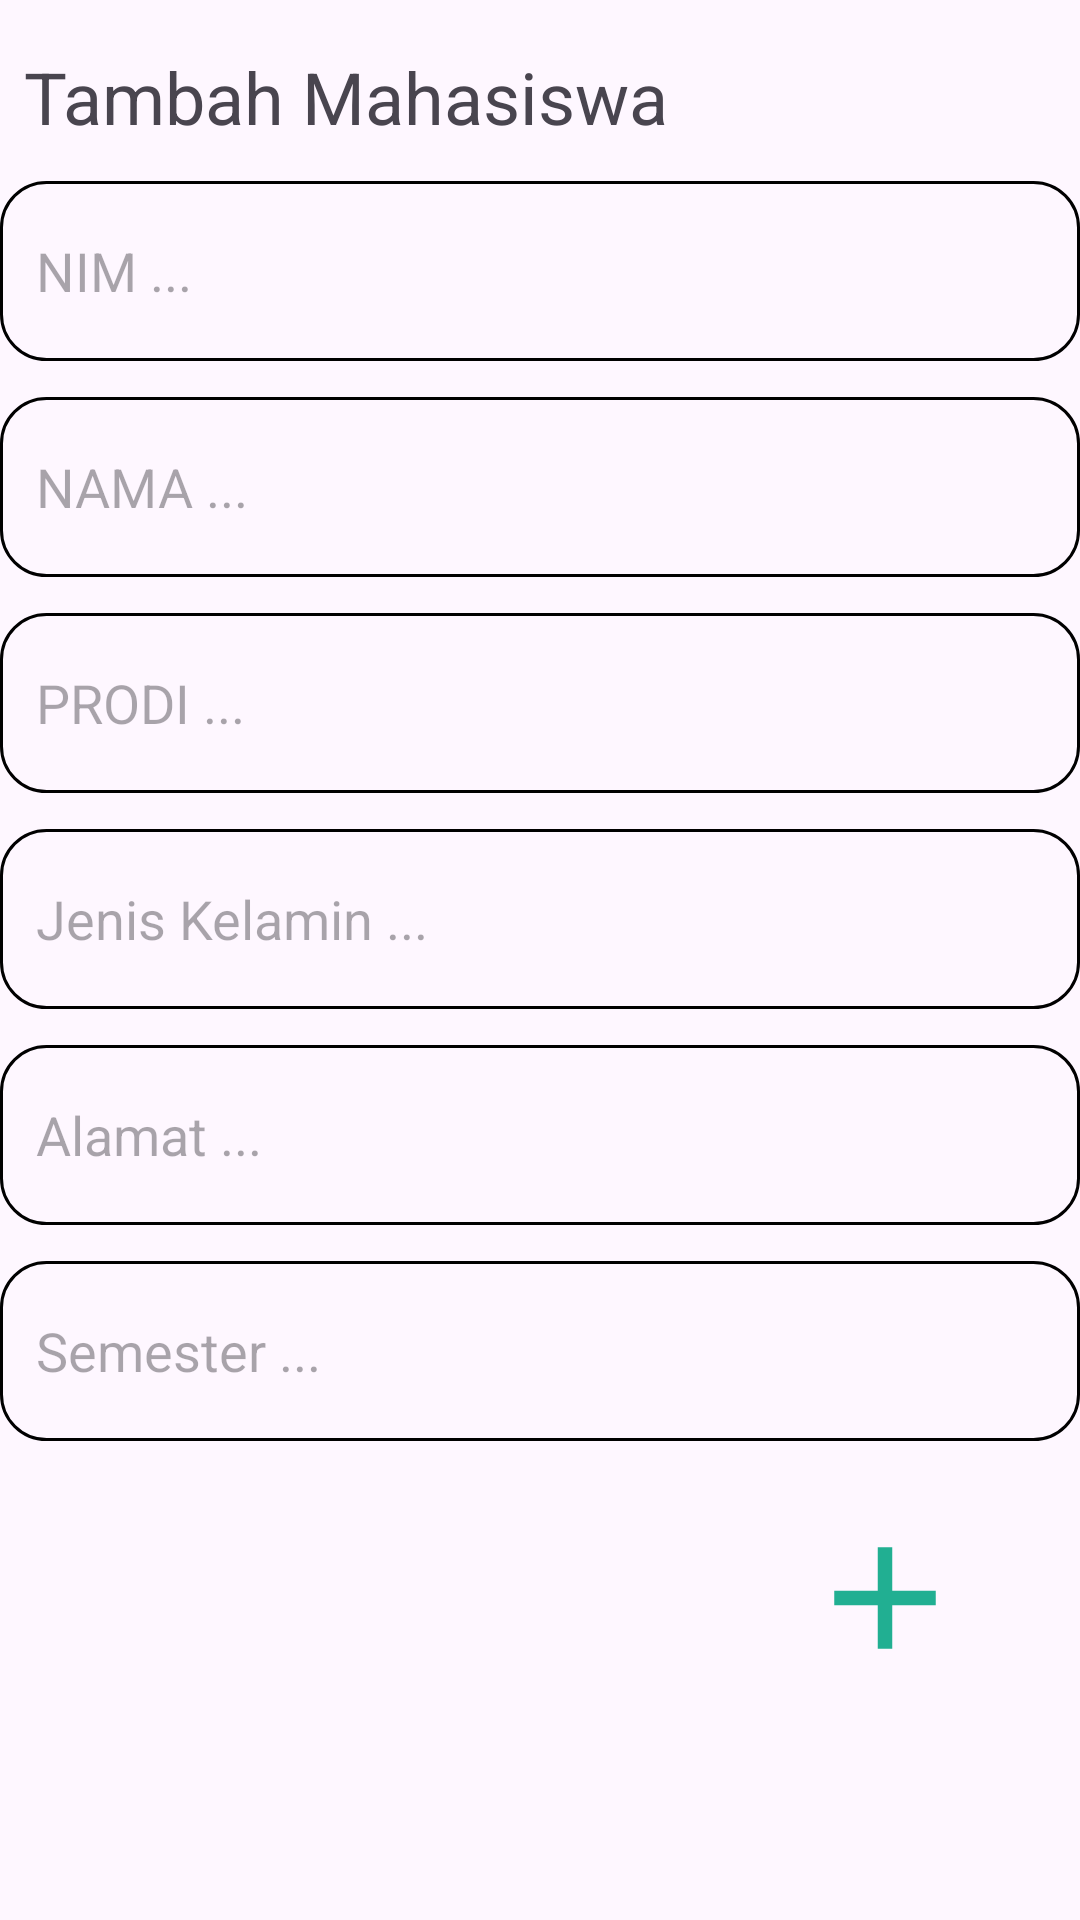

Screen size 1080×1920. Icon name, then its center in pixels as [x,y]:
add: [885,1598]
